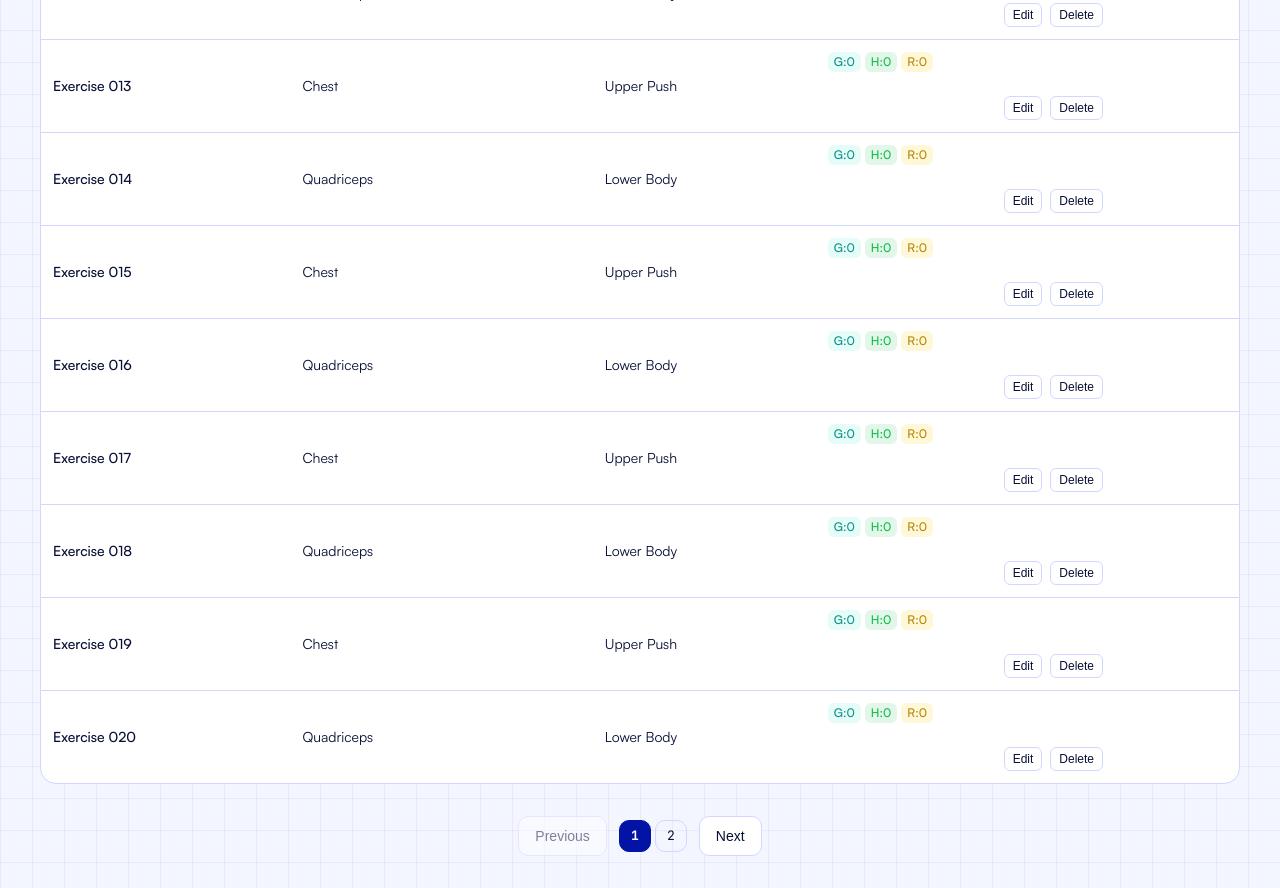
ExerciseLibraryPage › navigates to page 2
(page scrolled)
Click the button "2" at (671,836), box [655,820,687,852]
(page scrolled)
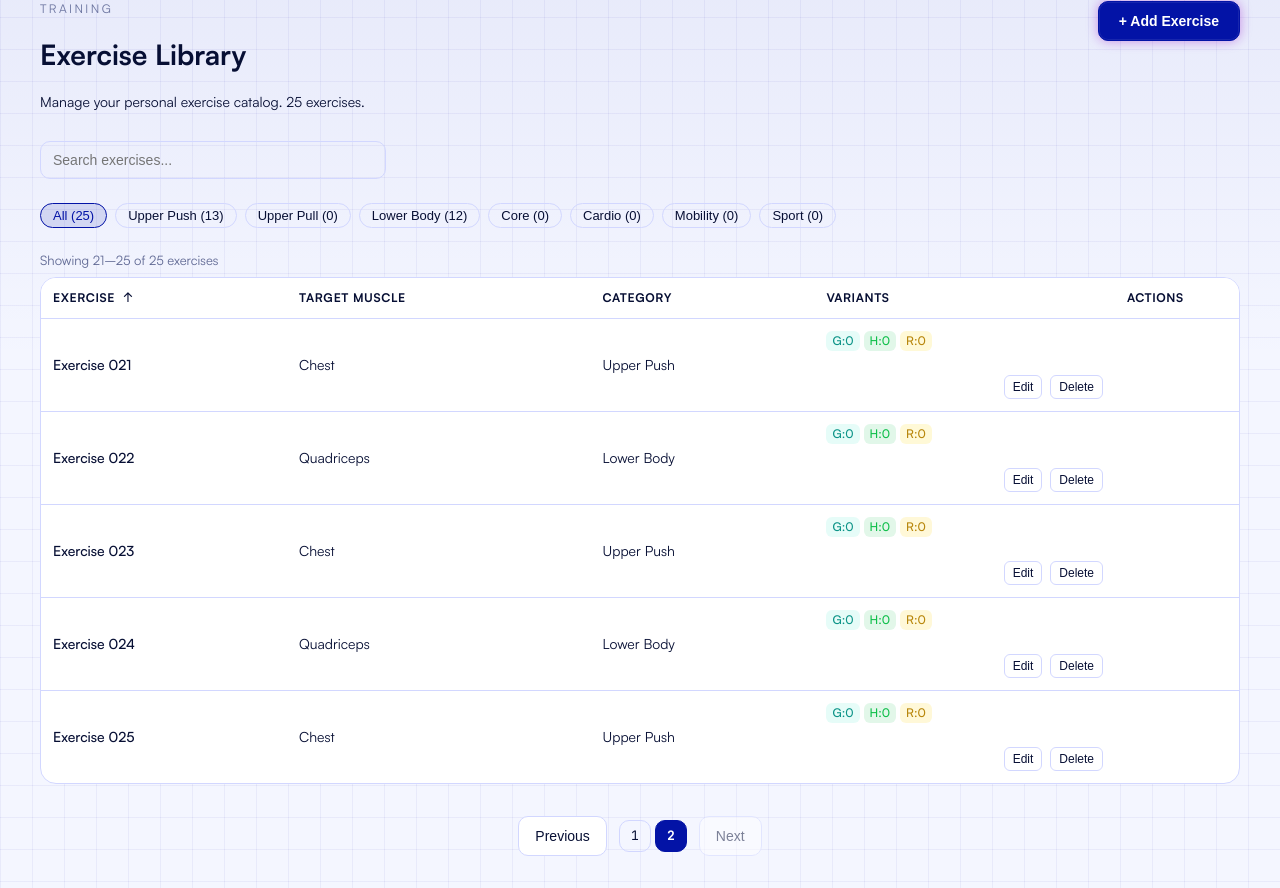
Check: the text "Showing 21–25 of 25 exercises" is shown, box [40,252,218,268]
